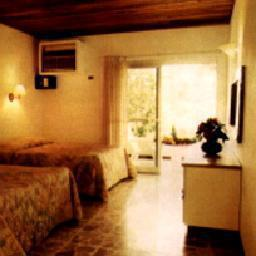Cama: (2, 165, 76, 251), (7, 135, 126, 167)
Puerta: (116, 61, 161, 171)
